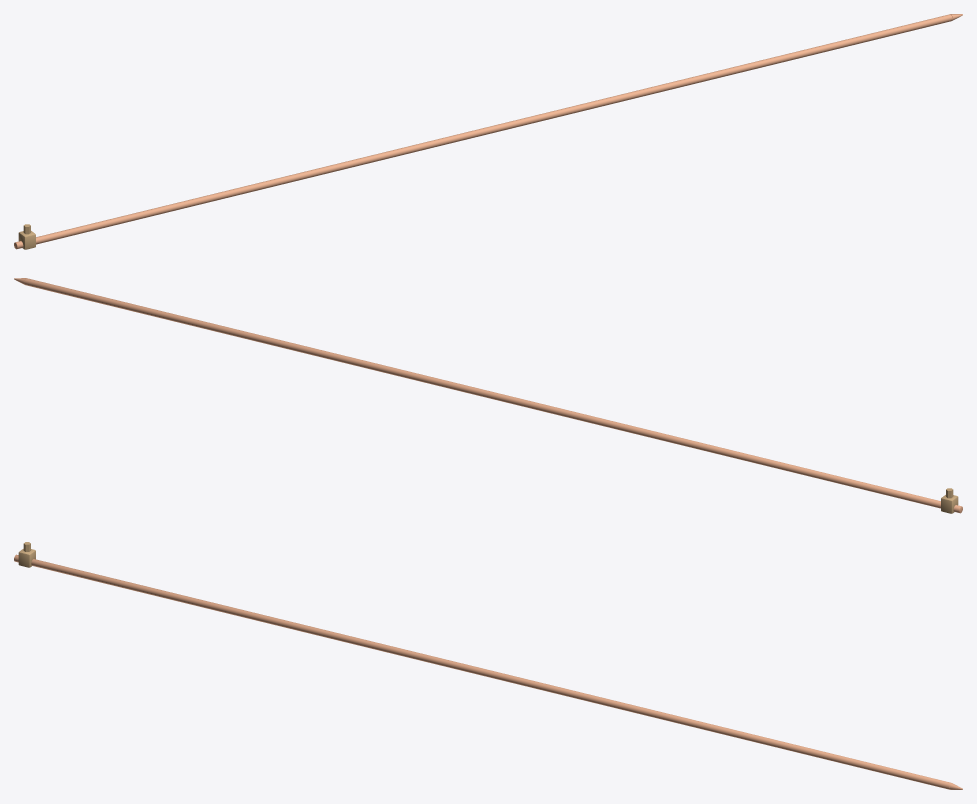
Rendered from ELE-ATR-001.glb.
The picture shows the model from 3 angles, top to bottom: view 1: azimuth 30°, elevation 25°; view 2: azimuth 150°, elevation 25°; view 3: azimuth 330°, elevation 25°; orthographic projection.
Parts seen in each view (by area): view 1: ELE-ATR-001_haste; view 2: ELE-ATR-001_haste; view 3: ELE-ATR-001_haste.
Boxes of the visible parts, x1,y1,x2,y2 form: ELE-ATR-001_haste: (14, 14, 952, 249); ELE-ATR-001_haste: (24, 278, 962, 513); ELE-ATR-001_haste: (14, 554, 950, 789).
Size of the model in its own units: 2.43 by 0.052 by 0.03.
